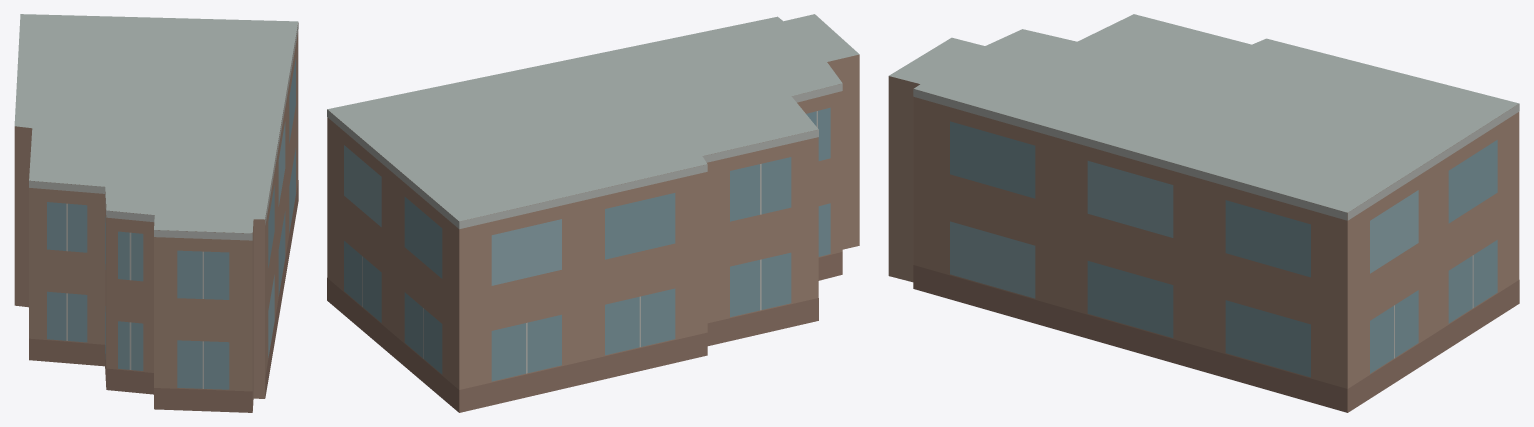
Rendered from survey-upis-32618813.glb.
3 views of the same model, side by side, from view 1: azimuth 30°, elevation 25°; view 2: azimuth 150°, elevation 25°; view 3: azimuth 270°, elevation 25° (orthographic). The views are drawn at different scales.
Parts seen in each view (by area): view 1: survey-upis-32618813.tmp; view 2: survey-upis-32618813.tmp; view 3: survey-upis-32618813.tmp.
Boxes of the visible parts, x1,y1,x2,y2 form: survey-upis-32618813.tmp: (14, 14, 298, 412); survey-upis-32618813.tmp: (327, 14, 859, 412); survey-upis-32618813.tmp: (888, 14, 1519, 412).
Bounding box in the file's own units: 13 × 6.1 × 17.44.
